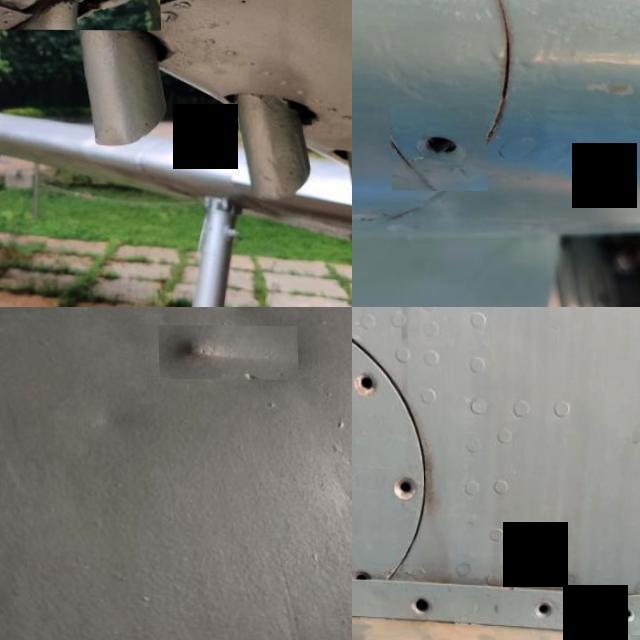Dent: (156, 324, 297, 380), (0, 0, 159, 30), (204, 307, 255, 320)
Missing_Fastener: (388, 102, 486, 190), (378, 464, 429, 515), (352, 360, 396, 411), (394, 580, 442, 626), (518, 584, 564, 629), (601, 592, 640, 634), (352, 549, 385, 597)
